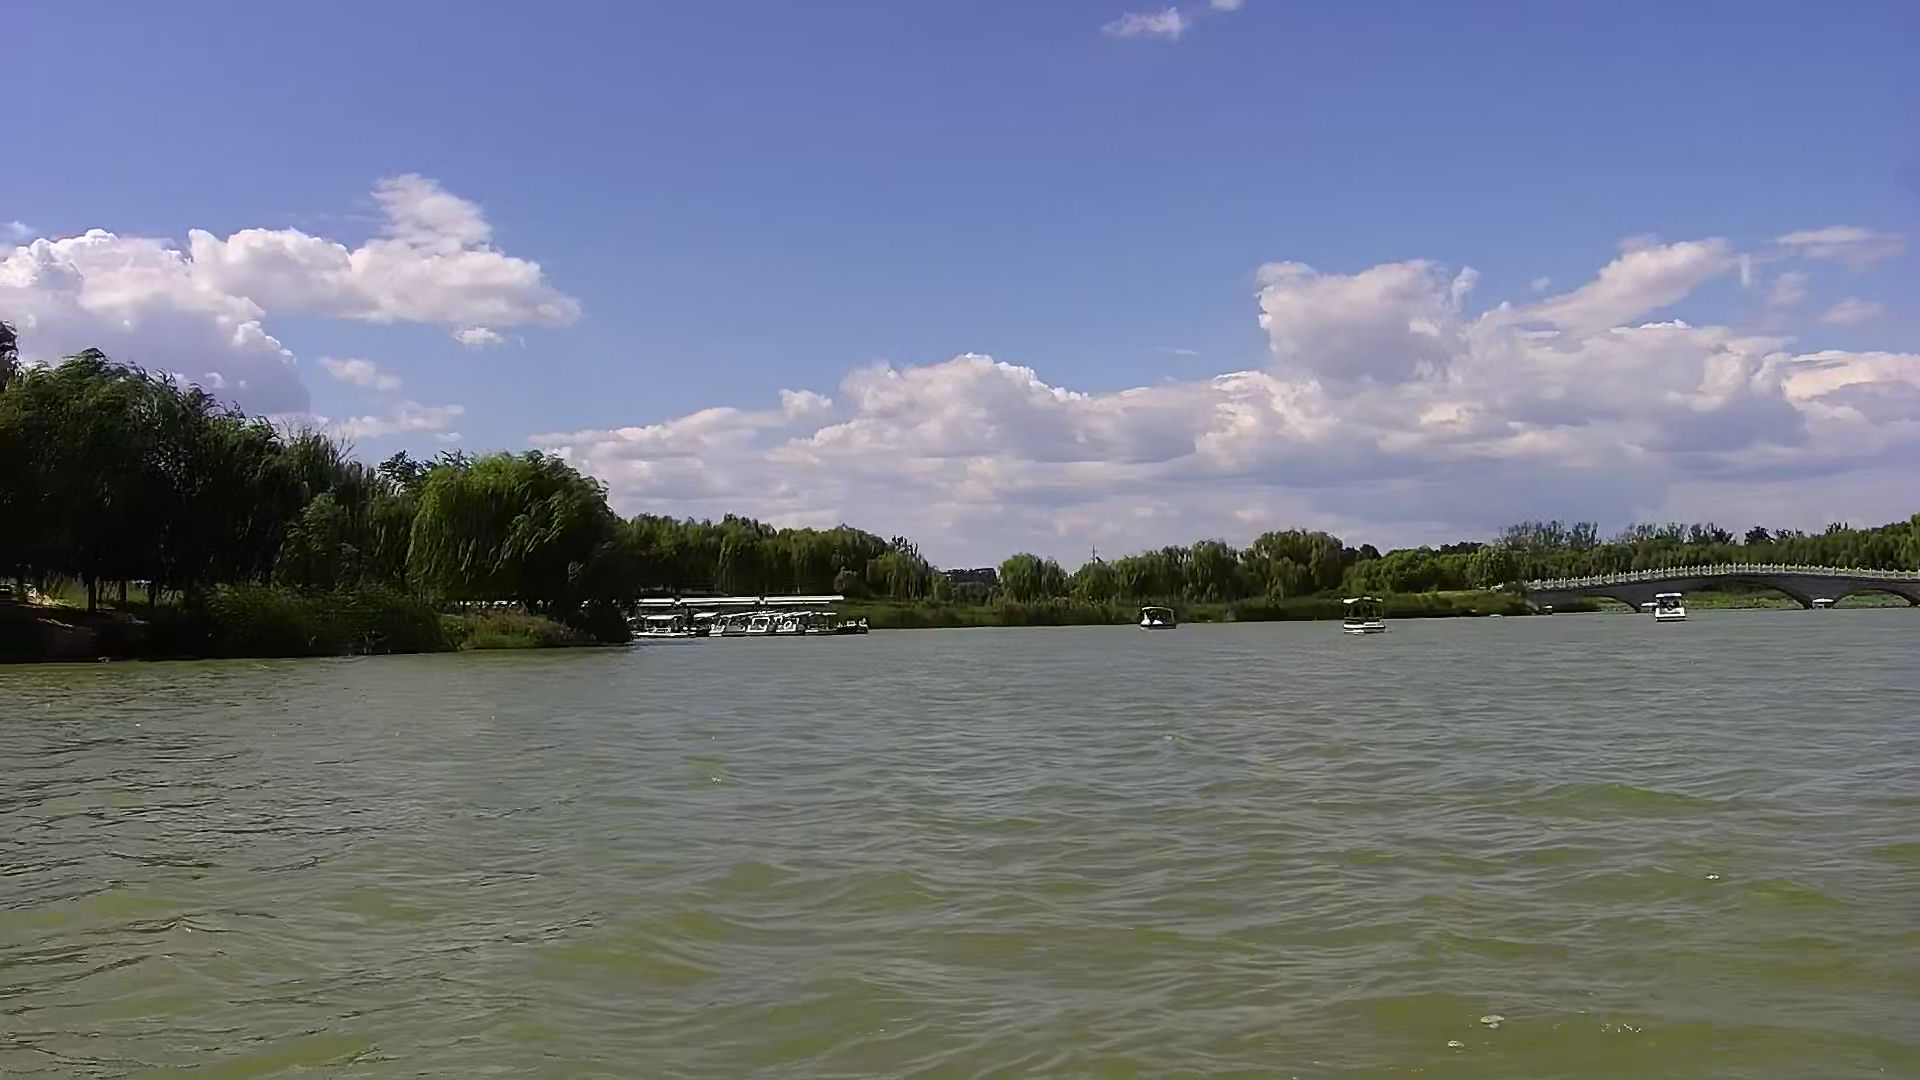boat: (1338, 588, 1393, 640), (775, 604, 841, 640), (1648, 585, 1693, 634), (1135, 600, 1189, 636), (702, 608, 752, 642), (745, 611, 787, 640)
bridge: (1520, 562, 1920, 599)
